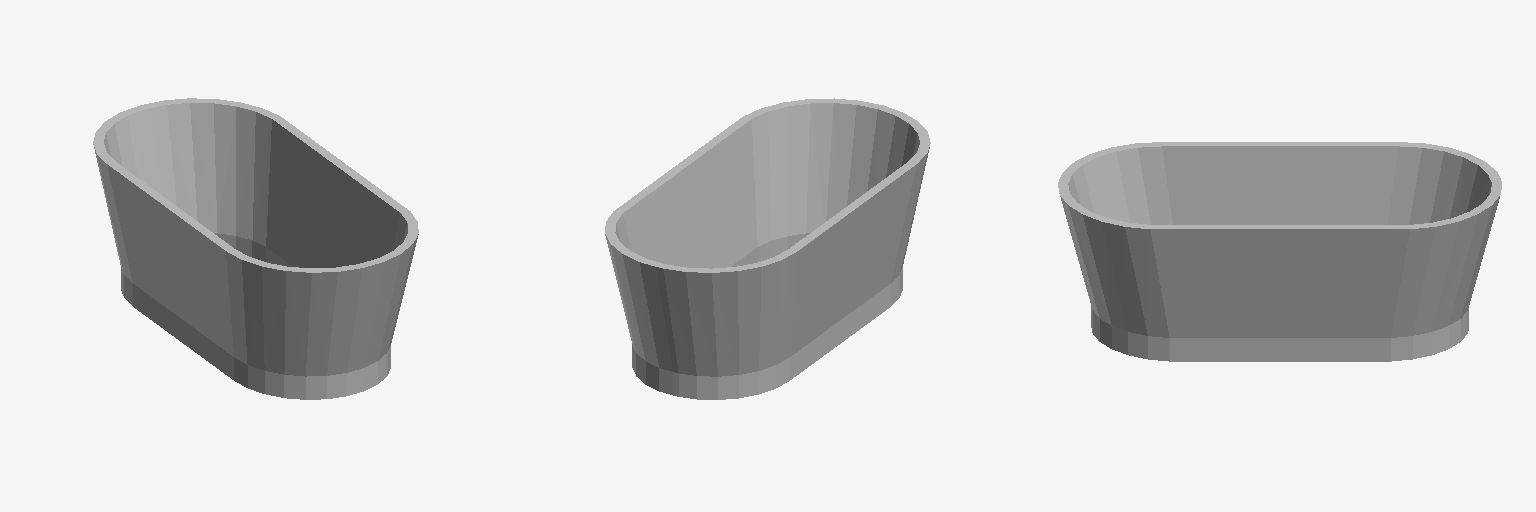
The model's file is MUSA_BLANCA.obj.
3 renders of one model, left to right at view 1: azimuth 30°, elevation 25°; view 2: azimuth 150°, elevation 25°; view 3: azimuth 270°, elevation 25°, orthographic.
Parts seen in each view (by area): view 1: Mesh1 Unir Model; view 2: Mesh1 Unir Model; view 3: Mesh1 Unir Model.
Part boxes in pixels (x1,y1,x2,y2): Mesh1 Unir Model: (93, 98, 418, 399); Mesh1 Unir Model: (605, 98, 930, 399); Mesh1 Unir Model: (1058, 142, 1501, 361).
Size of the model in its own units: 80 by 60 by 172.